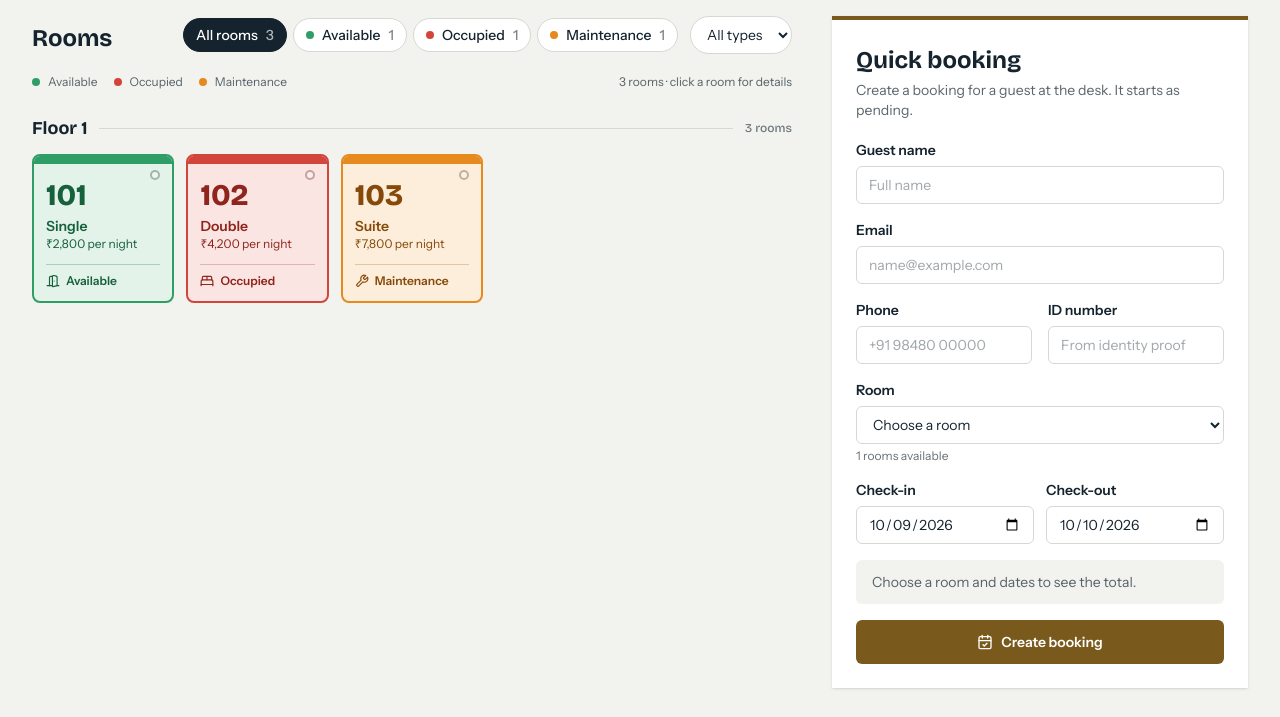
Test case: front desk dashboard › shows validation errors rather than submitting an empty booking
(page scrolled)
Expected: the button with aria-label "room 101, single, available" is shown, [32,154,174,303]
What coordinates should you click on to do the following:
click the button "Create booking"
I would click on:
 (1040, 642)
Its box is [856,620,1224,664].
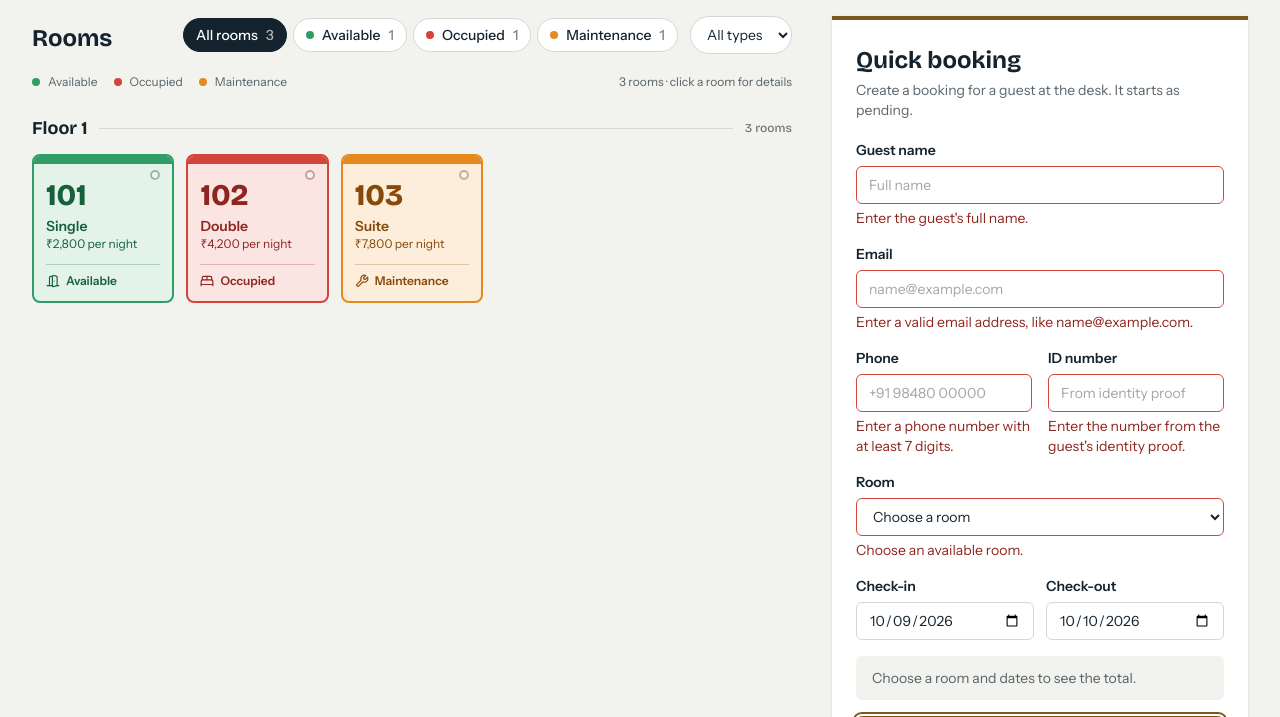
Expected: the text "Enter the guest's full name." is shown, [856,209,1028,227]
Expected: the text "Enter a valid email address, like name@example.com." is shown, [856,312,1224,332]
